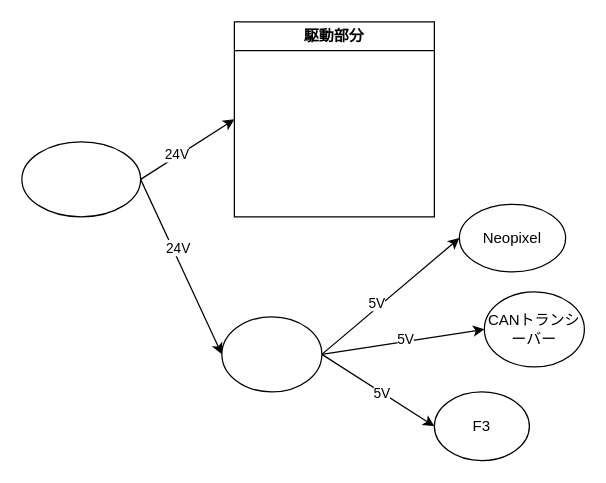
The diagram is 606 pixels wide and 483 high, and some of its shapes have lost their labels. Here are the shapes that lost their labels. From the top down, the centre of each, then its label:
At (81,179): "安定化電源".
At (271,354): "DCDC".
